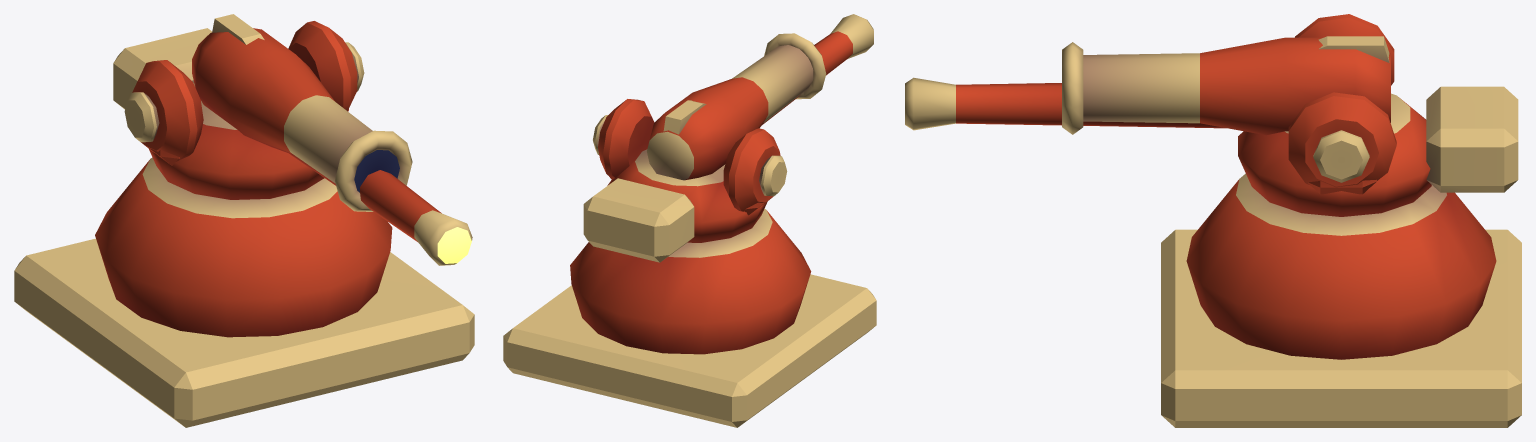
The model's file is R4W_Basic_LOD1.fbx.
3 renders of one model, left to right at view 1: azimuth 30°, elevation 25°; view 2: azimuth 150°, elevation 25°; view 3: azimuth 270°, elevation 25°, orthographic. The views are drawn at different scales.
Parts seen in each view (by area): view 1: R4W_Basic_LOD1; view 2: R4W_Basic_LOD1; view 3: R4W_Basic_LOD1.
Part boxes in pixels (x1,y1,x2,y2): R4W_Basic_LOD1: (14, 14, 474, 427); R4W_Basic_LOD1: (503, 14, 876, 427); R4W_Basic_LOD1: (905, 14, 1521, 427).
Size of the model in its own units: 0.51 by 0.494 by 0.872.
